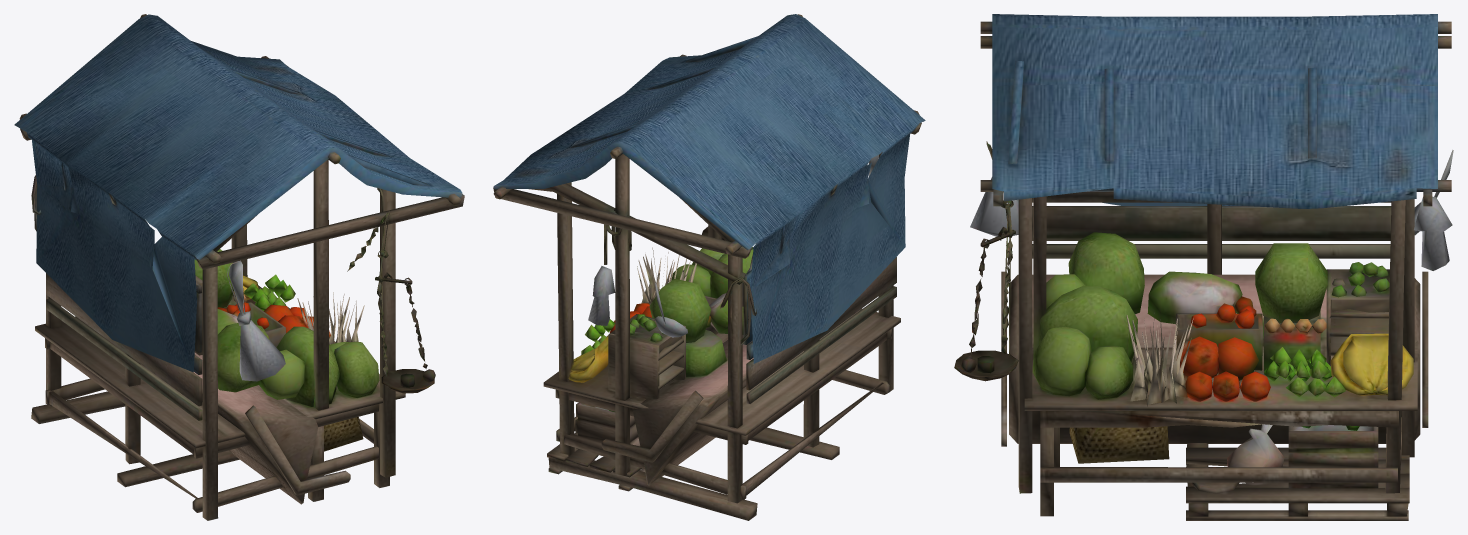
The model's file is vegstall.glb.
3 views of the same model, side by side, from view 1: azimuth 30°, elevation 25°; view 2: azimuth 150°, elevation 25°; view 3: azimuth 270°, elevation 25° (orthographic). The views are drawn at different scales.
Visible parts, largest first — view 1: tripo_node_81349e36-f839-4e8d-9ccf-fbc6ec113c81; view 2: tripo_node_81349e36-f839-4e8d-9ccf-fbc6ec113c81; view 3: tripo_node_81349e36-f839-4e8d-9ccf-fbc6ec113c81.
Part boxes in pixels (box(x1,y1,x2,y2)): tripo_node_81349e36-f839-4e8d-9ccf-fbc6ec113c81: box(14, 14, 464, 520); tripo_node_81349e36-f839-4e8d-9ccf-fbc6ec113c81: box(493, 14, 925, 520); tripo_node_81349e36-f839-4e8d-9ccf-fbc6ec113c81: box(954, 14, 1453, 520).
Bounding box in the file's own units: 0.7715 × 0.998 × 0.998.
Materials: 1 (1 with a texture image).
